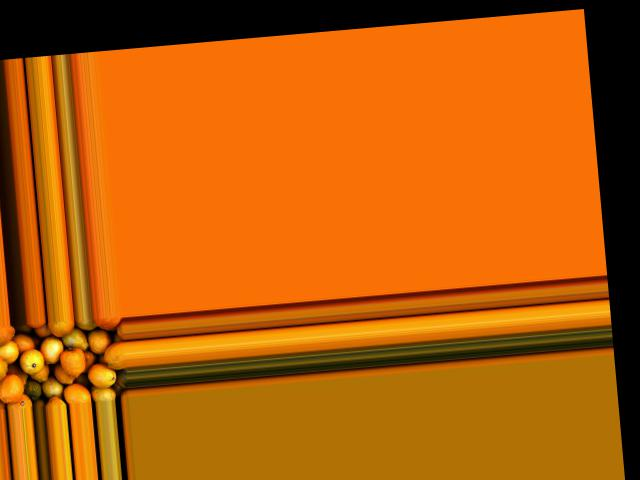lemon: (60, 380, 92, 404)
